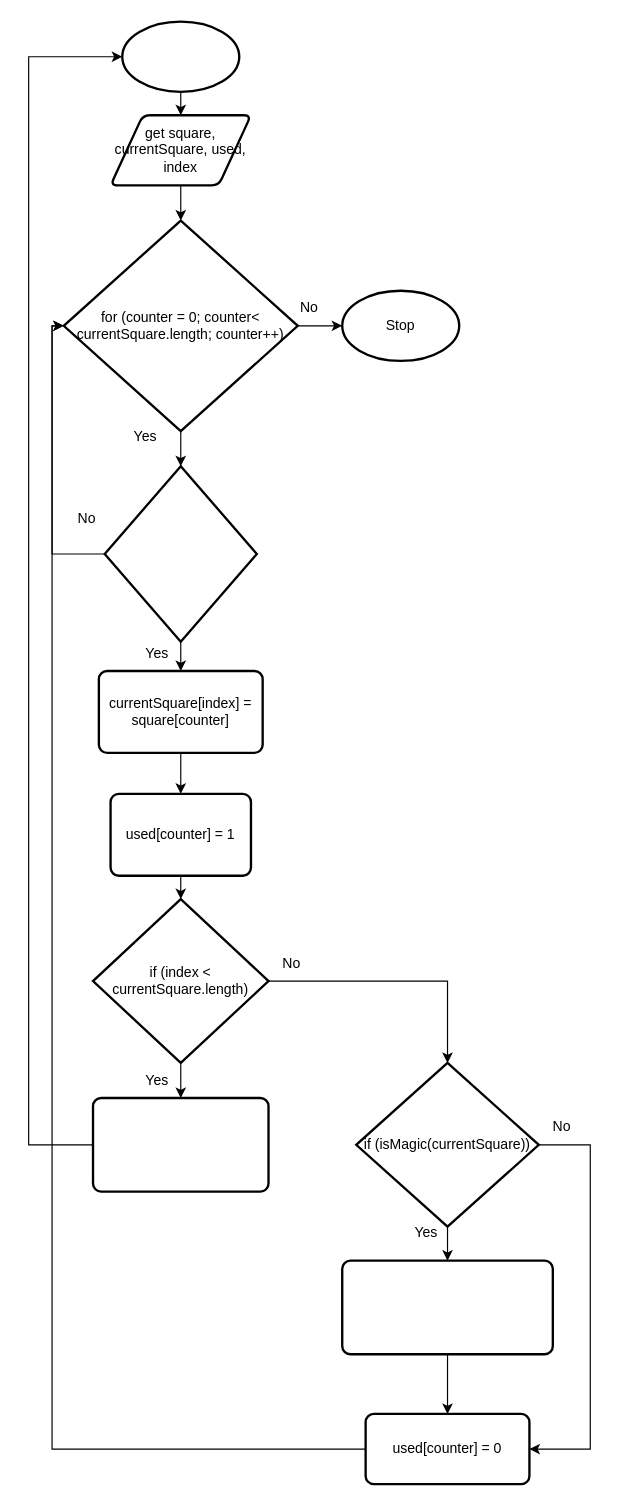
Some shapes in this 620 by 1505 pixel diagram are drawn without their labels. The centre of each missing label's shape, as x and y in pixels:
genSquare(square, currentSquare, used, index + 1): the point at 180,1144
if (used[counter] === 0): the point at 180,553
printMagicSquare(currentSquare): the point at 446,1307
Start: the point at 180,56
